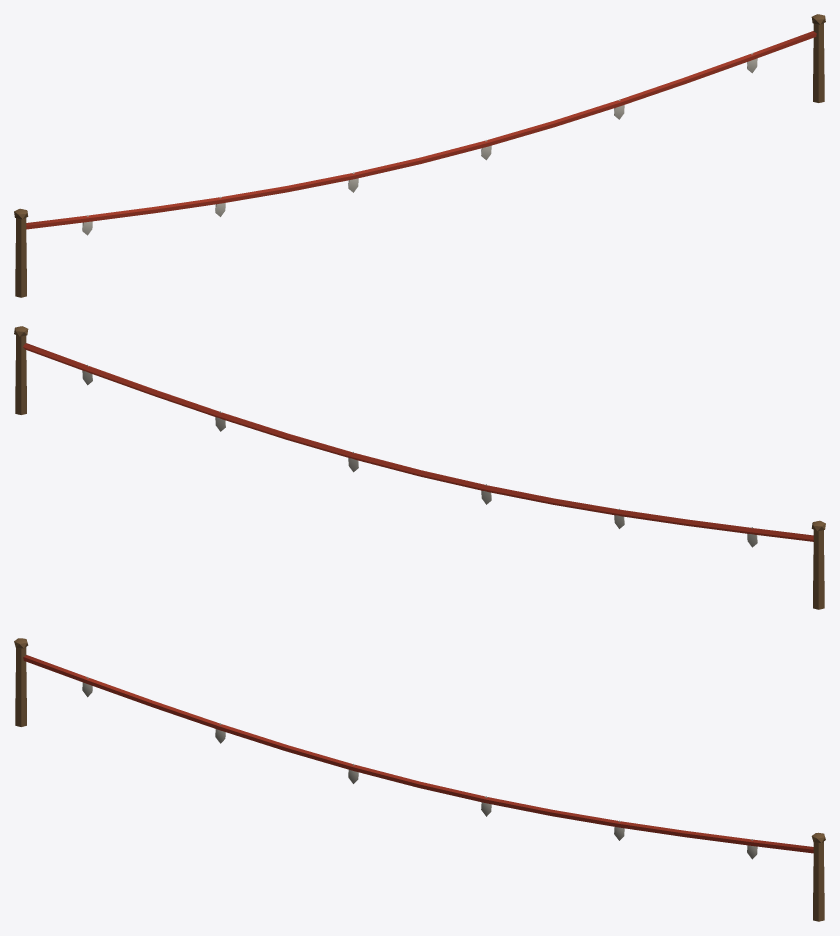
File: wanage_line.glb
The picture shows the model from 3 angles, top to bottom: view 1: azimuth 30°, elevation 25°; view 2: azimuth 150°, elevation 25°; view 3: azimuth 330°, elevation 25°; orthographic projection.
Parts seen in each view (by area): view 1: line; view 2: line; view 3: line.
Boxes of the visible parts, left/top/right/bottom form: line: left=14, top=14, right=825, bottom=297; line: left=14, top=326, right=825, bottom=609; line: left=14, top=638, right=825, bottom=921.
Size of the model in its own units: 1.63 by 0.165 by 0.0238.
